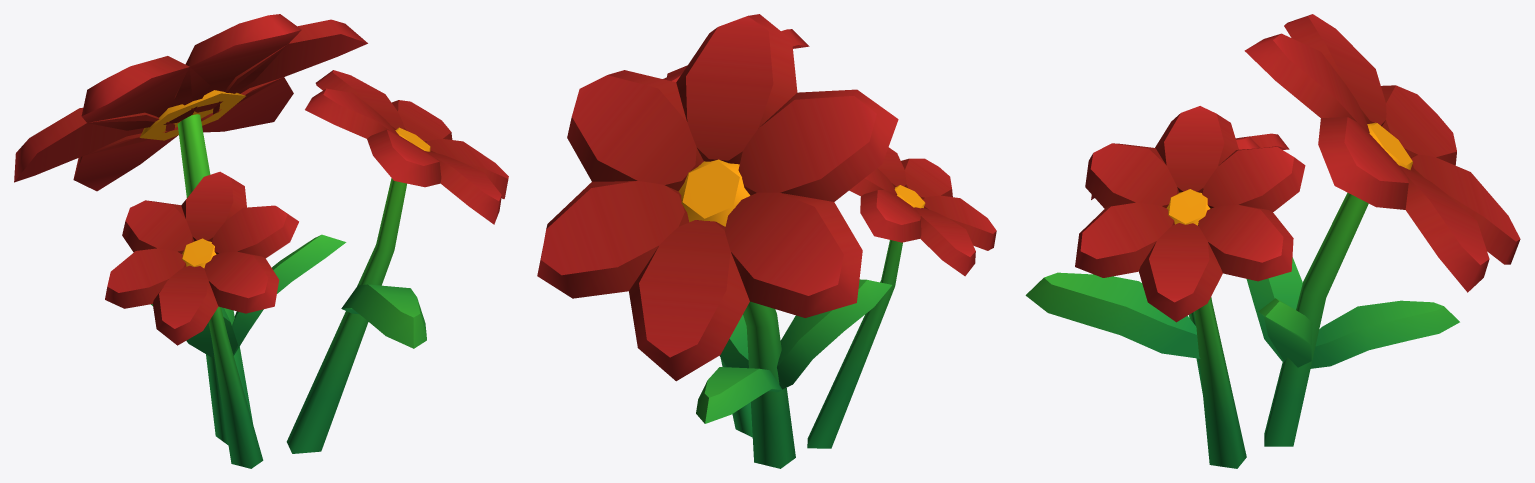
The model's file is Flowers_1_A.glb.
3 renders of one model, left to right at view 1: azimuth 30°, elevation 25°; view 2: azimuth 150°, elevation 25°; view 3: azimuth 270°, elevation 25°, orthographic. The views are drawn at different scales.
Parts seen in each view (by area): view 1: Flowers_1_A; view 2: Flowers_1_A; view 3: Flowers_1_A.
Boxes of the visible parts, x1,y1,x2,y2 form: Flowers_1_A: [14, 14, 508, 468]; Flowers_1_A: [537, 14, 996, 468]; Flowers_1_A: [1025, 14, 1520, 468].
Bounding box in the file's own units: 0.3976 × 0.4195 × 0.4541.
1 material, 1 textured.
